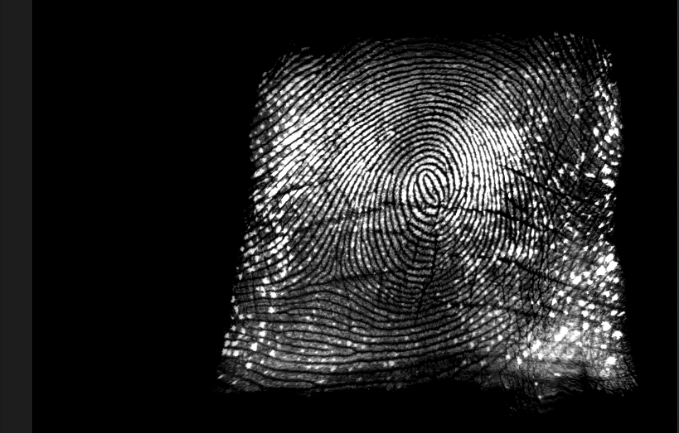nucelo: (409, 161, 443, 206)
verticilo: (321, 259, 352, 290), (539, 217, 570, 247)
